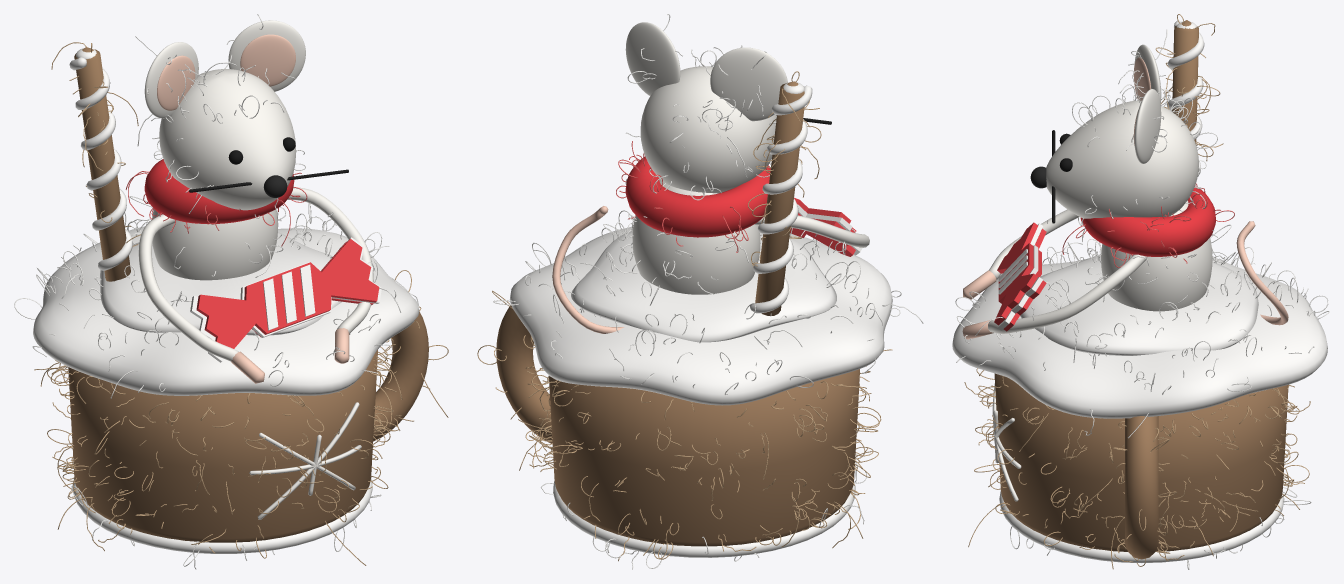
Rendered from mouse.glb.
3 renders of one model, left to right at view 1: azimuth 30°, elevation 25°; view 2: azimuth 150°, elevation 25°; view 3: azimuth 270°, elevation 25°, orthographic. The views are drawn at different scales.
Visible parts, largest first — view 1: Mug, CreamLower, Head, CreamUpper, CandyFront, Body, FibresMug, Wafer, MugHandle, MugFoot, Scarf, FibresCream (+17 smaller); view 2: Mug, CreamLower, CreamUpper, Head, Body, Scarf, FibresMug, Wafer, MugHandle, EarL, FibresCream, MugFoot (+8 smaller); view 3: Mug, CreamLower, CreamUpper, Head, Body, FibresMug, Scarf, MugHandle, FibresCream, MugFoot, FibresMouse, ArmR (+13 smaller).
Boxes of the visible parts, x1,y1,x2,y2 form: Mug: (68, 350, 377, 542); CreamLower: (33, 226, 419, 395); Head: (159, 69, 296, 210); CreamUpper: (100, 232, 342, 335); CandyFront: (196, 239, 379, 348); Body: (152, 209, 278, 280); FibresMug: (34, 270, 448, 565); Wafer: (74, 47, 130, 281); MugHandle: (373, 311, 428, 441); MugFoot: (72, 478, 372, 553); Scarf: (144, 159, 294, 224); FibresCream: (14, 212, 419, 569); Mug: (549, 369, 859, 546); CreamLower: (509, 226, 892, 405); CreamUpper: (571, 231, 836, 342); Head: (640, 66, 776, 193); Body: (632, 179, 760, 294); Scarf: (625, 156, 770, 237); FibresMug: (477, 290, 892, 561); Wafer: (755, 81, 804, 315); MugHandle: (496, 305, 552, 443); EarL: (710, 47, 787, 121); FibresCream: (493, 210, 923, 569); MugFoot: (553, 481, 855, 557); Mug: (994, 373, 1288, 551); CreamLower: (952, 256, 1327, 418); CreamUpper: (1020, 255, 1258, 355); Head: (1046, 100, 1198, 218); Body: (1101, 200, 1212, 311); FibresMug: (964, 368, 1310, 569); Scarf: (1080, 185, 1215, 256); MugHandle: (1125, 416, 1158, 559); FibresCream: (955, 239, 1329, 569); MugFoot: (999, 490, 1284, 563); FibresMouse: (975, 29, 1231, 339); ArmR: (988, 254, 1147, 333).
Bounding box in the file's own units: 1.48 × 1.73 × 1.26.
